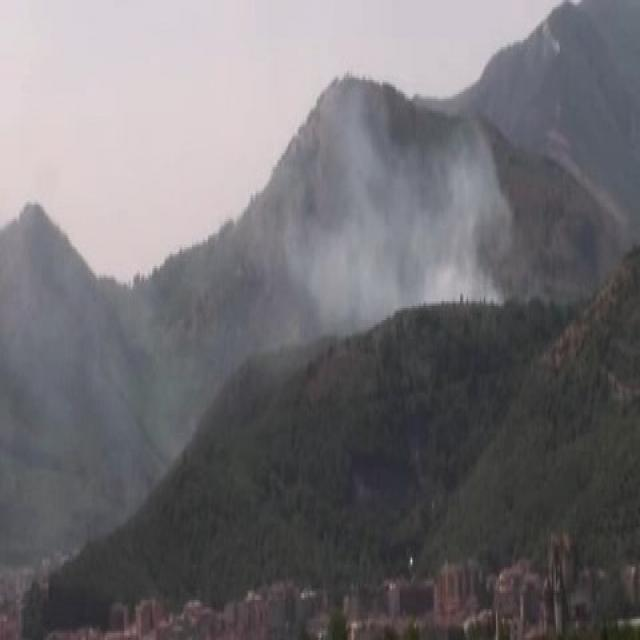smoke: (276, 118, 504, 314)
